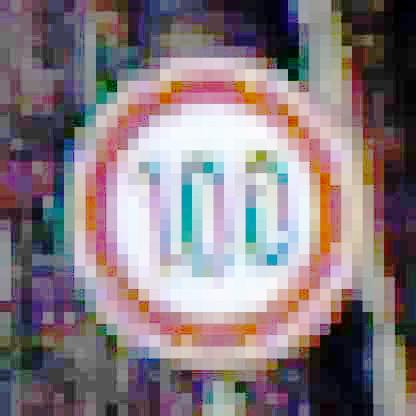Speed Limit -100-: (72, 59, 359, 367)
